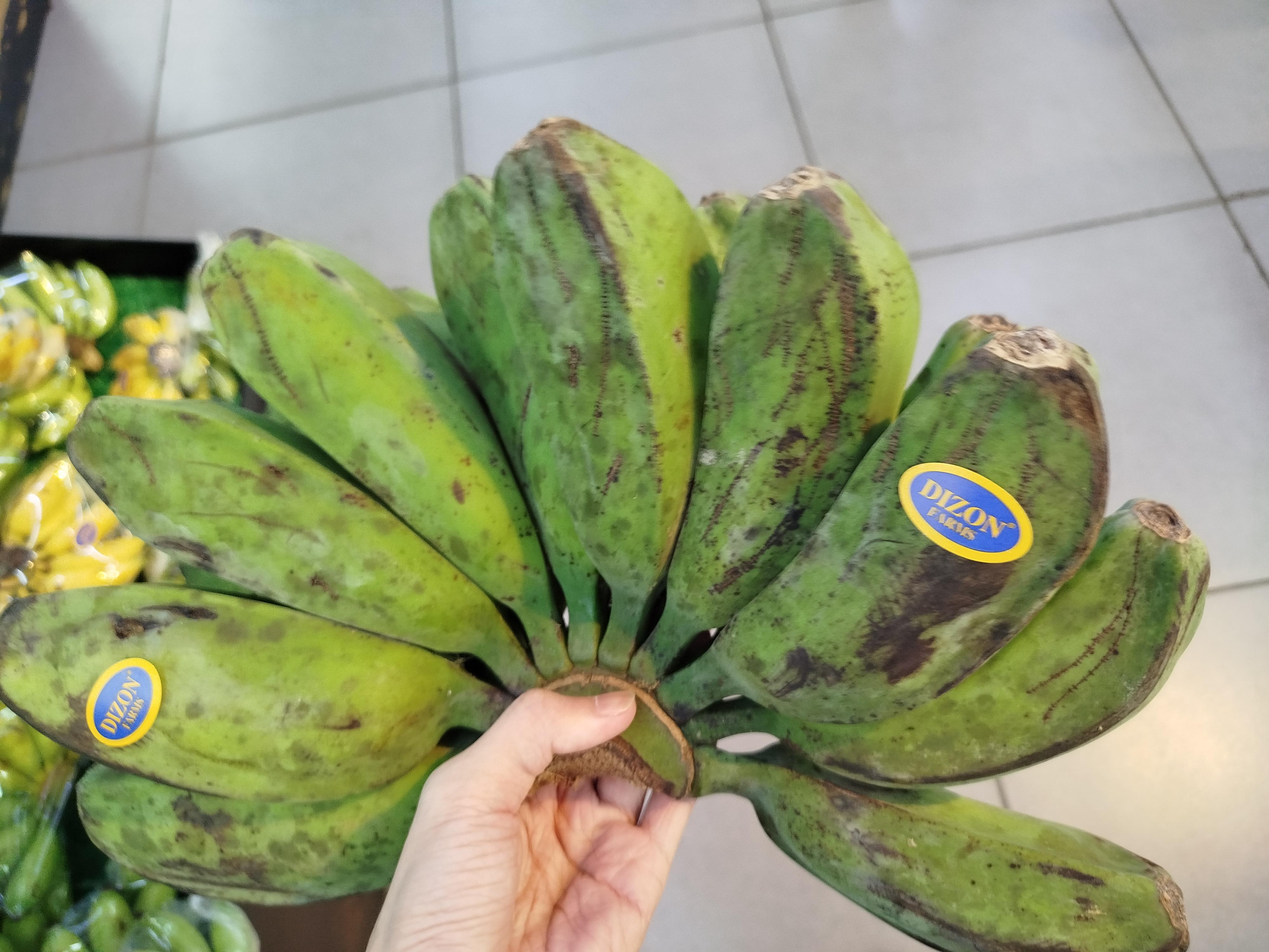underripe: (0, 118, 1208, 952)
